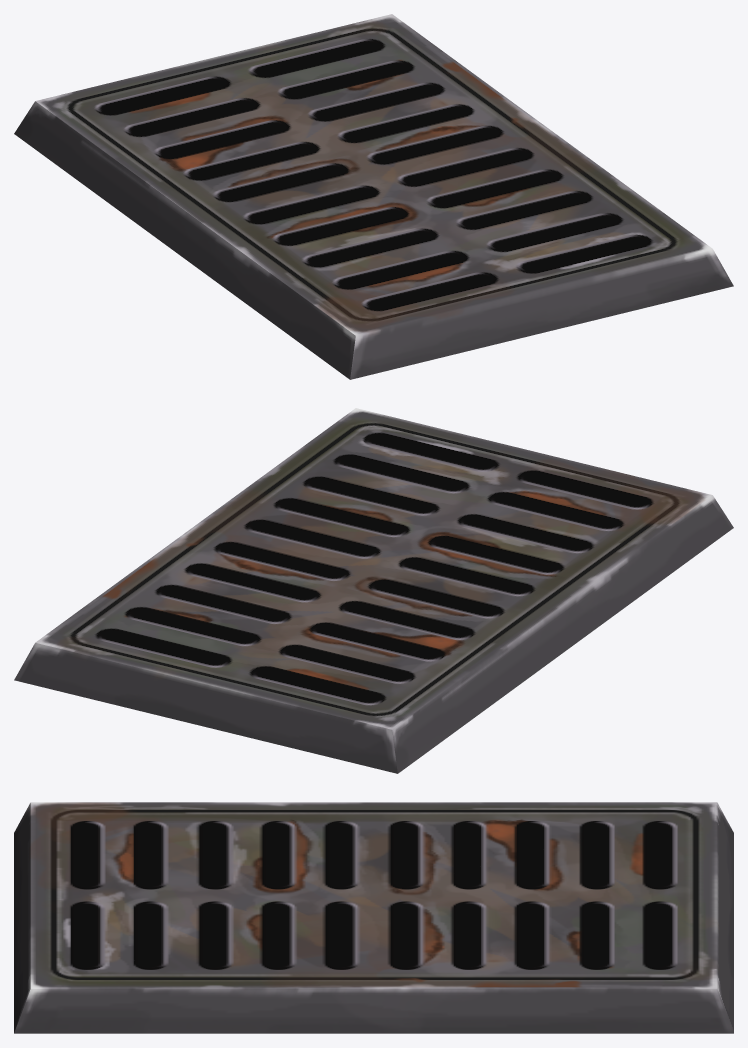
Rendered from manhole06.fbx.
3 renders of one model, top to bottom at view 1: azimuth 30°, elevation 25°; view 2: azimuth 150°, elevation 25°; view 3: azimuth 270°, elevation 25°, orthographic. The views are drawn at different scales.
Parts seen in each view (by area): view 1: manhole06; view 2: manhole06; view 3: manhole06.
Boxes of the visible parts, x1,y1,x2,y2 form: manhole06: (14,14,733,379); manhole06: (14,408,733,773); manhole06: (14,802,733,1033).
Size of the model in its own units: 57.14 by 5 by 86.68.
